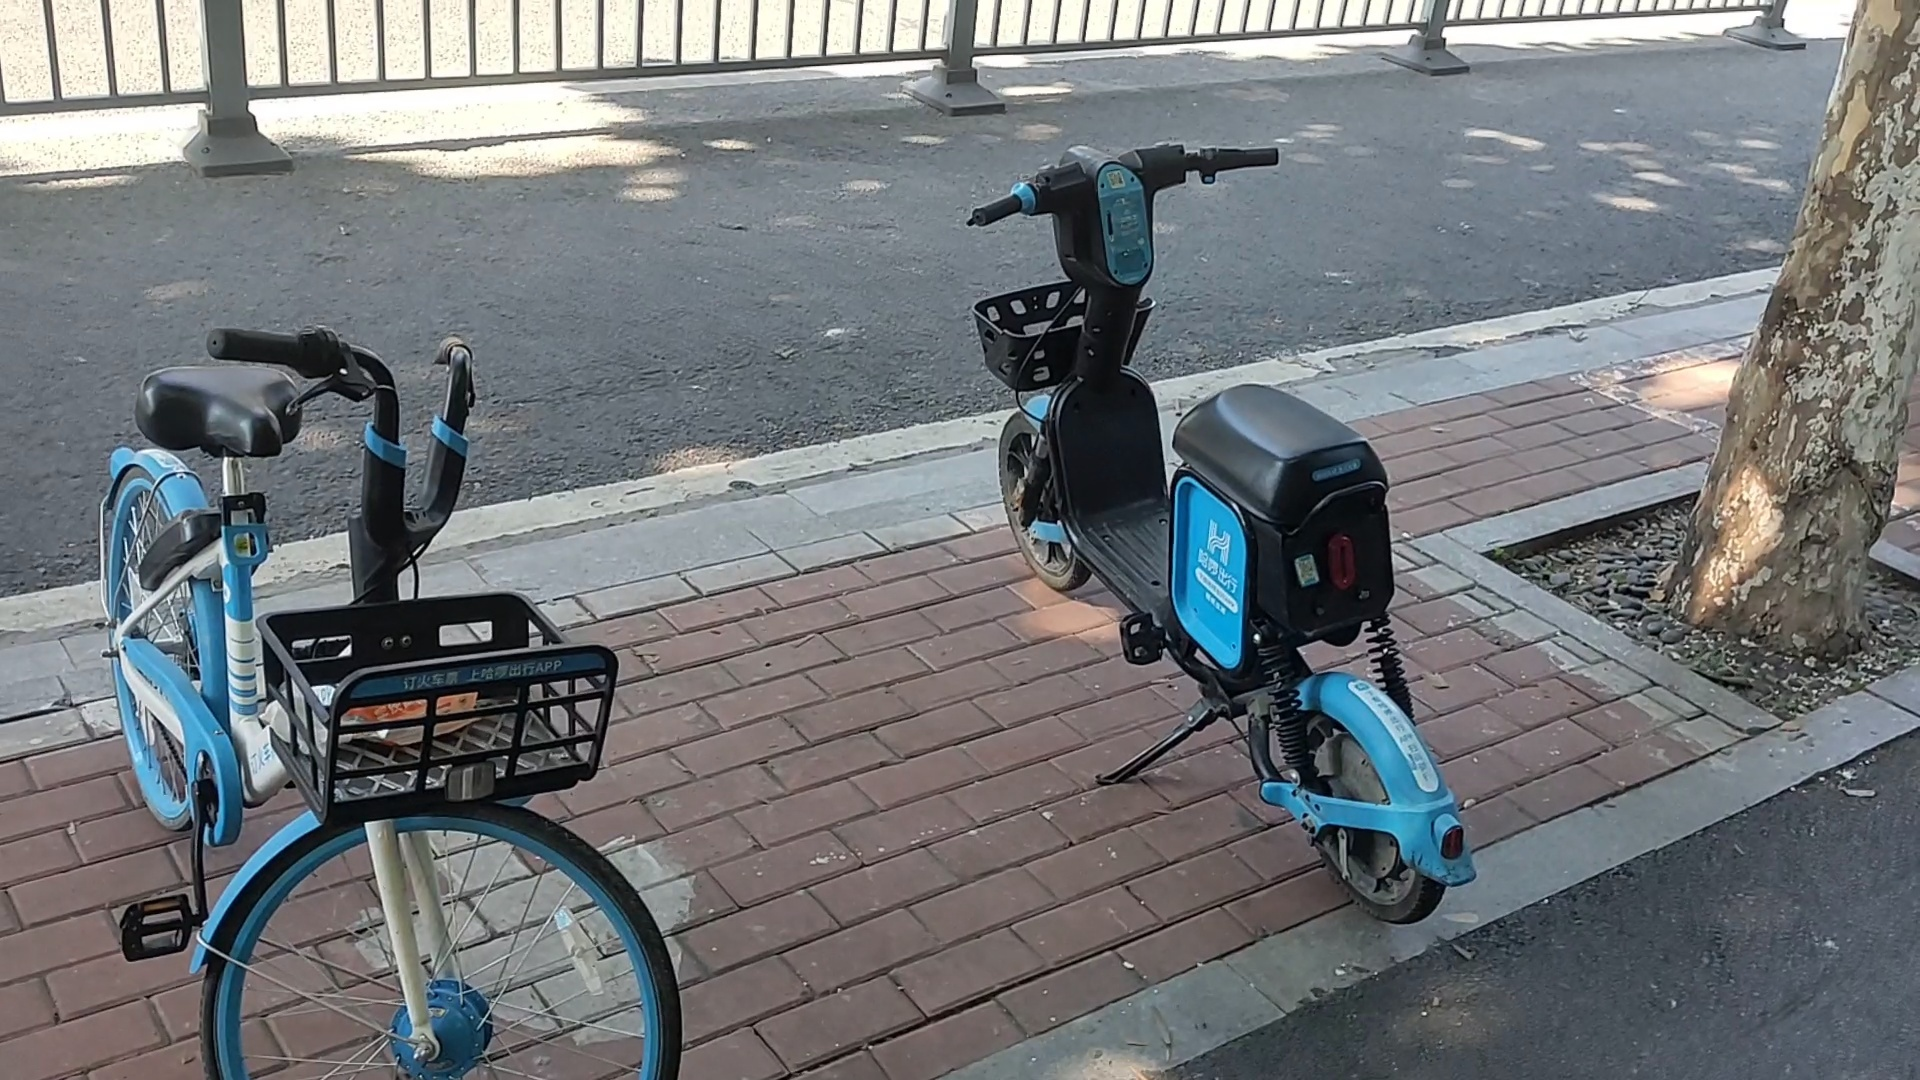non-vehicle: (69, 299, 674, 1080), (949, 131, 1498, 938)
